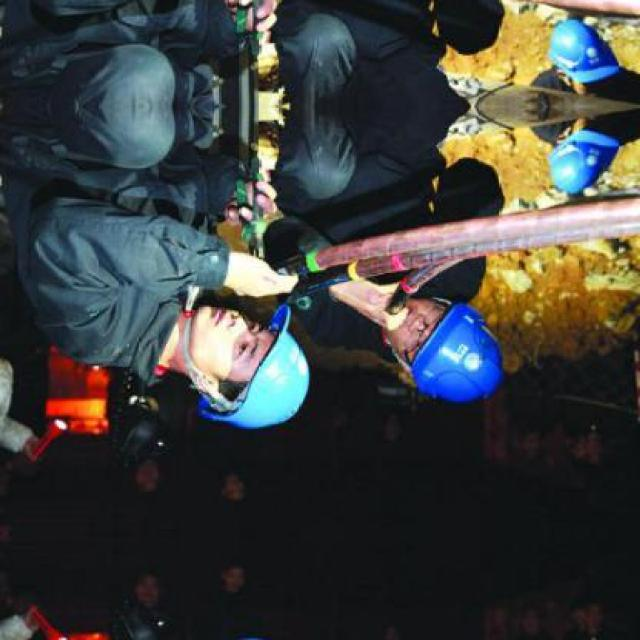safetyhelmet: (203, 306, 311, 427), (396, 296, 503, 408)
